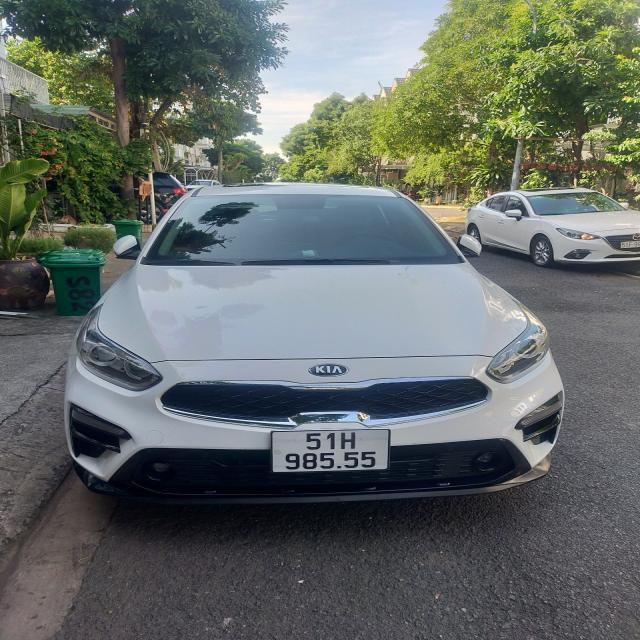car: (77, 173, 553, 514), (458, 185, 638, 272)
plate: (260, 418, 396, 478), (615, 231, 640, 257)
